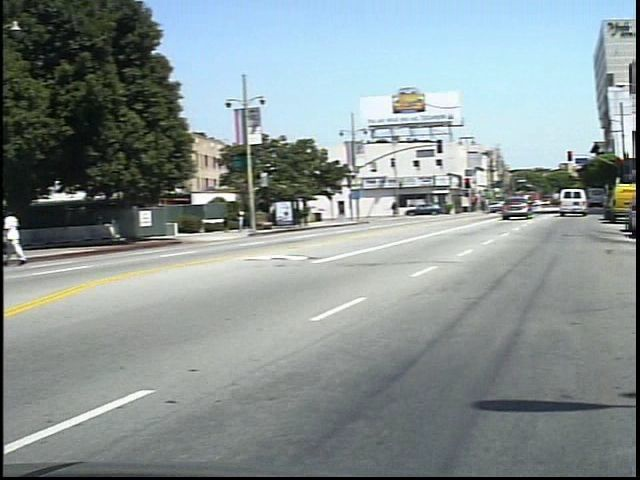person: (242, 207, 258, 236), (231, 208, 245, 234), (401, 200, 410, 219)
